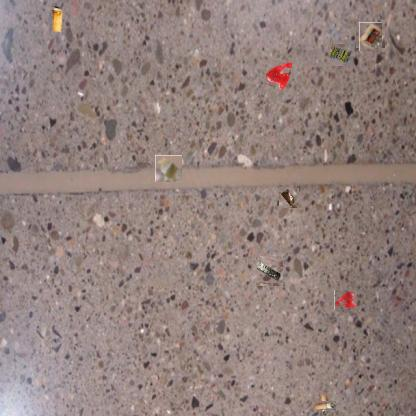dirty: (254, 258, 282, 285), (155, 155, 182, 182), (358, 23, 383, 50), (328, 44, 352, 66), (51, 4, 65, 34), (278, 187, 298, 207), (317, 397, 333, 413)
liquid: (264, 60, 292, 90), (334, 290, 357, 310)
